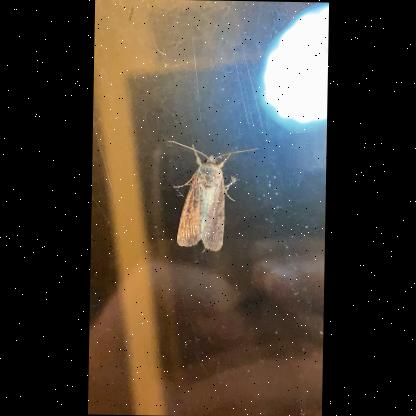Fall Armyworm Moth: (162, 138, 260, 254)
